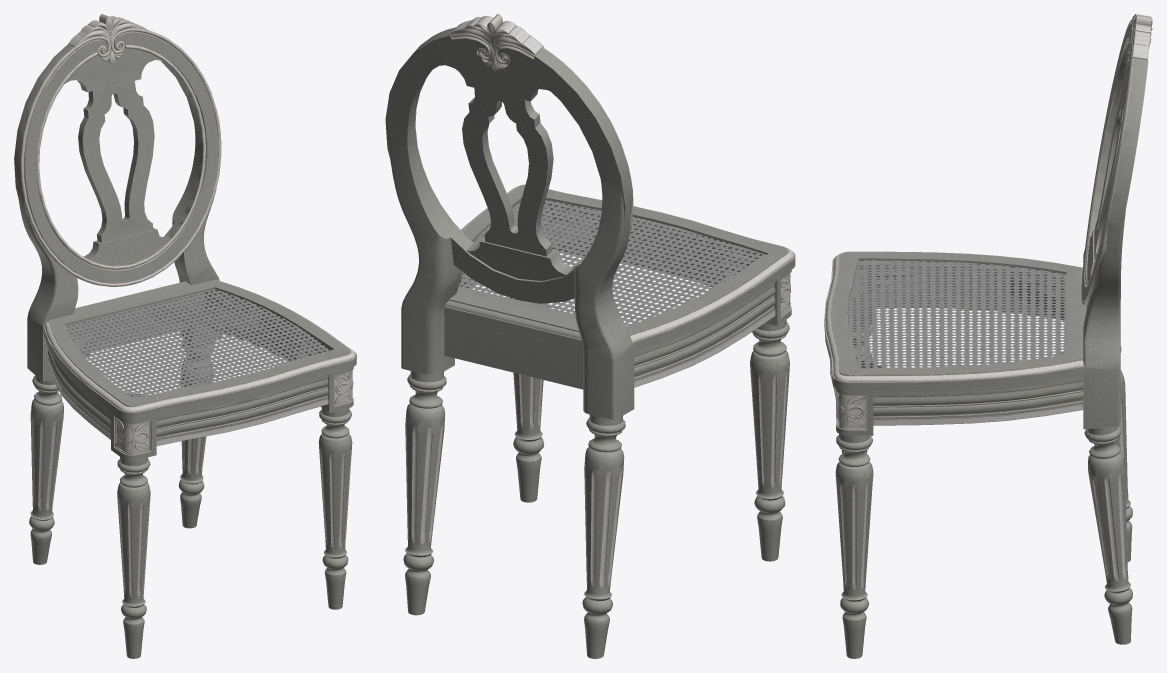
File: example126.gltf
3 renders of one model, left to right at view 1: azimuth 30°, elevation 25°; view 2: azimuth 150°, elevation 25°; view 3: azimuth 270°, elevation 25°, orthographic. The views are drawn at different scales.
Visible parts, largest first — view 1: LGHA.paint_0, LGHA.rattan_1; view 2: LGHA.paint_0, LGHA.rattan_1; view 3: LGHA.paint_0, LGHA.rattan_1.
Part boxes in pixels (left/top/right/bottom): LGHA.paint_0: left=14, top=14, right=356, bottom=658; LGHA.rattan_1: left=65, top=289, right=328, bottom=398; LGHA.paint_0: left=385, top=14, right=795, bottom=658; LGHA.rattan_1: left=459, top=200, right=765, bottom=325; LGHA.paint_0: left=824, top=14, right=1152, bottom=658; LGHA.rattan_1: left=848, top=260, right=1066, bottom=369.
Size of the model in its own units: 45.01 by 95.2 by 48.38.
2 materials, 2 textured.
